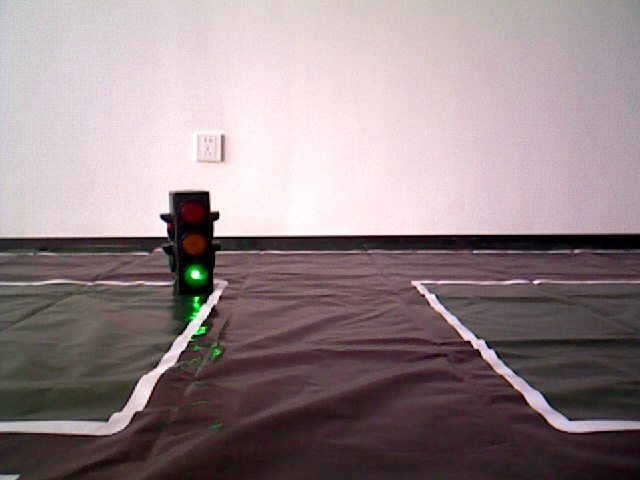green: (172, 196, 209, 291)
